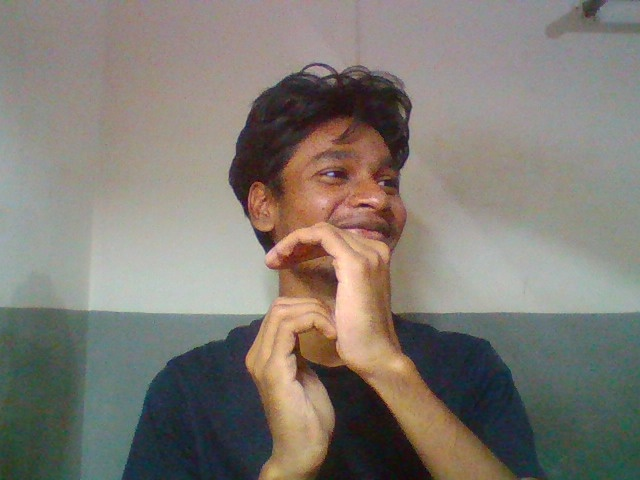S: (243, 216, 411, 462)
